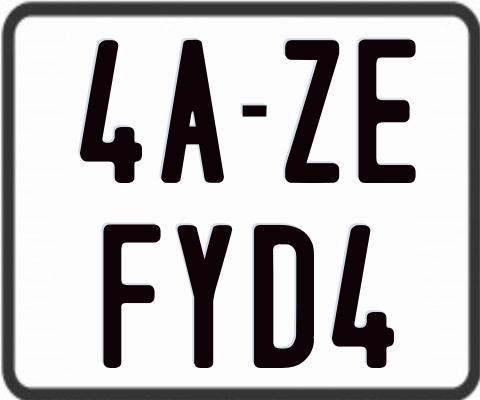4: (331, 222, 398, 369), (79, 39, 144, 184)
A: (158, 39, 227, 184)
D: (252, 225, 314, 371)
E: (356, 36, 414, 182)
F: (103, 222, 165, 369)
Y: (176, 223, 234, 367)
Z: (283, 38, 340, 183)
